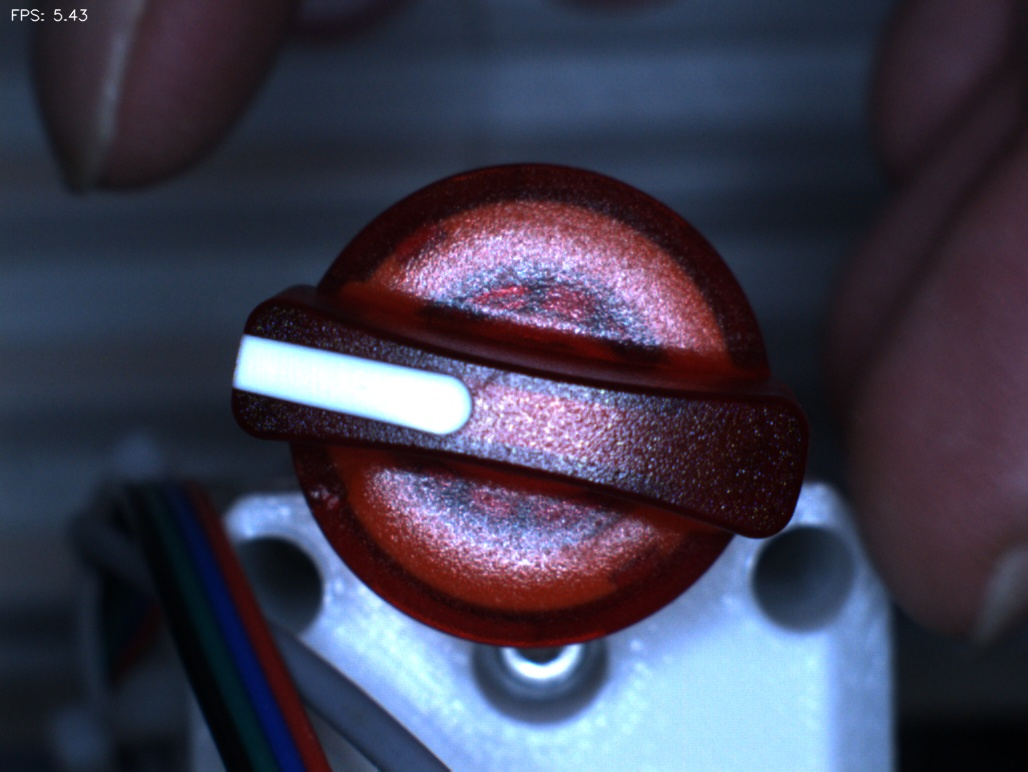Choc: (290, 455, 368, 533)
